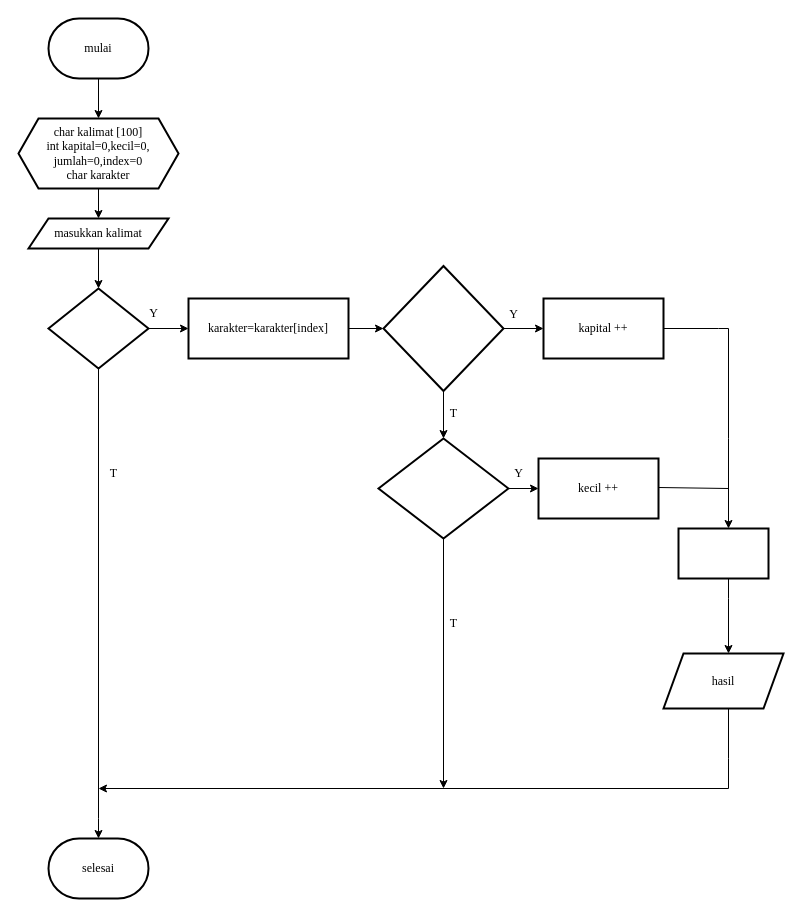
This 801x916 diagram has some shape labels left out. Here are the shapes that lost their labels. From the top down, the centre of each, then its label:
At point (98, 328): "kalimat [index]".
At point (443, 328): "karakter >='A' && karakter <='Z'".
At point (443, 488): "karakter >='a' && karakter <= 'z'".
At point (723, 553): "index ++".
